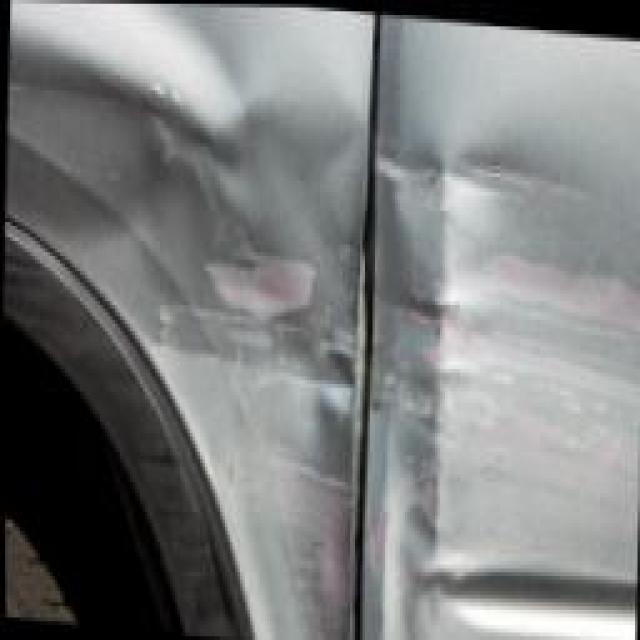Door: (355, 68, 640, 640)
Fender: (60, 26, 372, 639)
